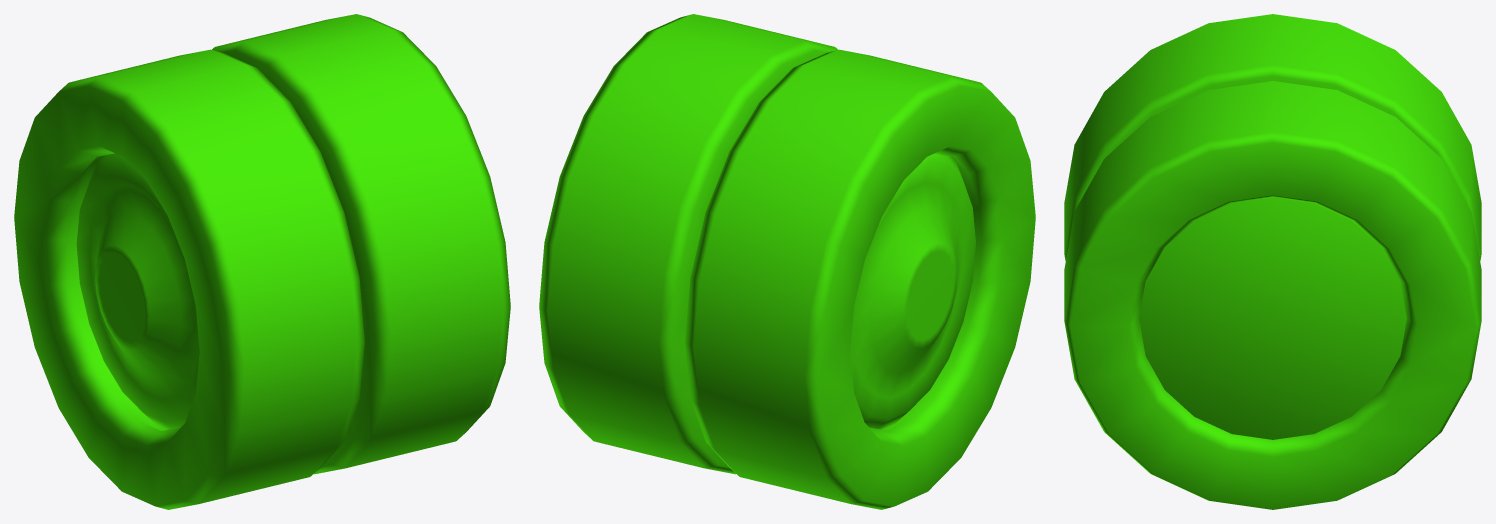
Rendered from Truck_Wheel_02B.fbx.
The picture shows the model from 3 angles, left to right: view 1: azimuth 30°, elevation 25°; view 2: azimuth 150°, elevation 25°; view 3: azimuth 270°, elevation 25°; orthographic projection. The views are drawn at different scales.
Parts seen in each view (by area): view 1: Truck_Wheel_02B; view 2: Truck_Wheel_02B; view 3: Truck_Wheel_02B.
Part boxes in pixels (x1,y1,x2,y2): Truck_Wheel_02B: (14, 14, 510, 509); Truck_Wheel_02B: (539, 14, 1035, 509); Truck_Wheel_02B: (1064, 14, 1481, 509).
Bounding box in the file's own units: 87.72 × 120 × 120.
